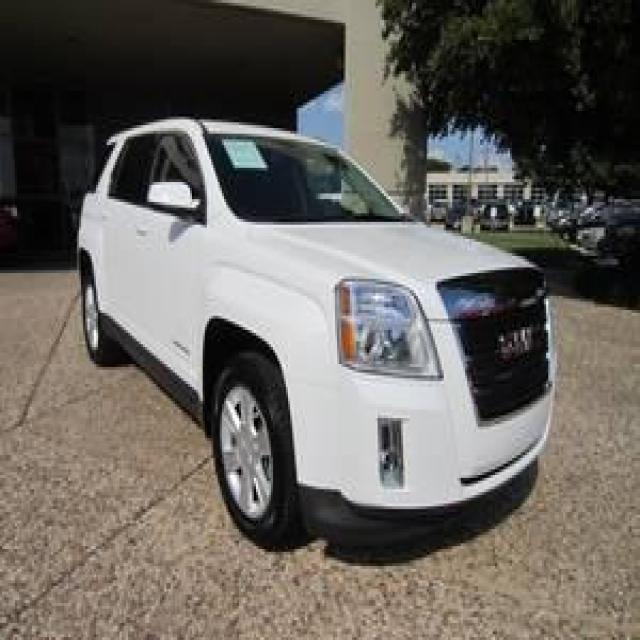Car: (75, 117, 578, 578)
